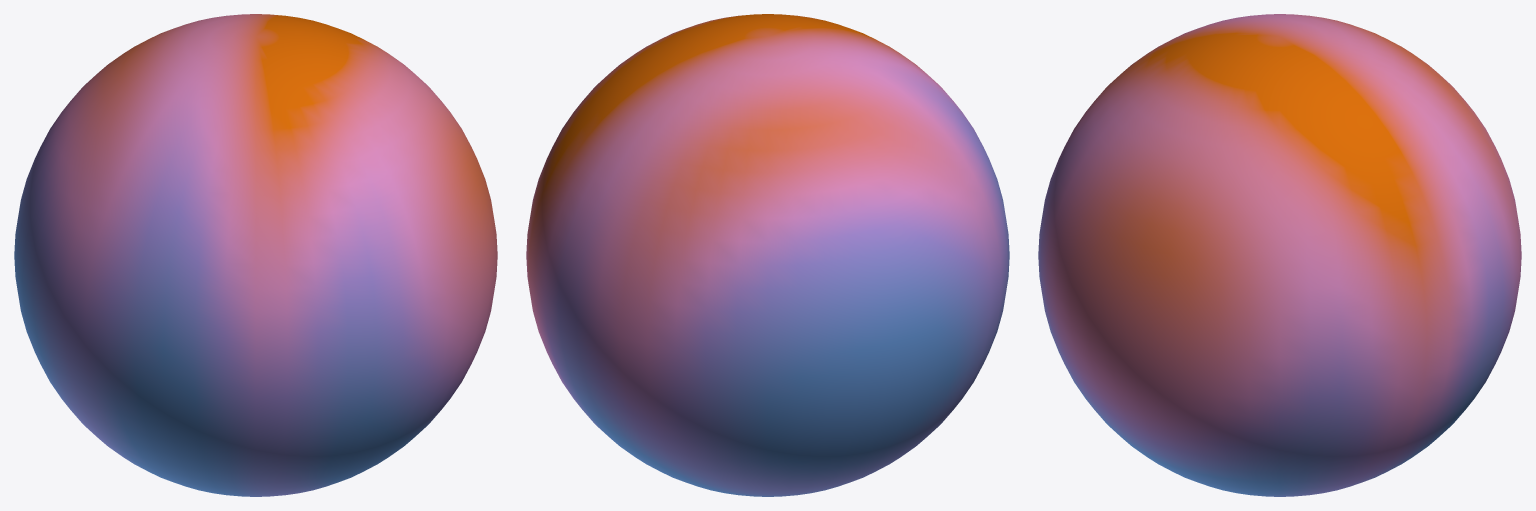
File: aneurysm.glb
The picture shows the model from 3 angles, left to right: view 1: azimuth 30°, elevation 25°; view 2: azimuth 150°, elevation 25°; view 3: azimuth 270°, elevation 25°; orthographic projection.
Parts seen in each view (by area): view 1: aneurysm_dome; view 2: aneurysm_dome; view 3: aneurysm_dome.
Part boxes in pixels (x1=…): aneurysm_dome: x1=14, y1=14, x2=497, y2=496; aneurysm_dome: x1=526, y1=14, x2=1009, y2=496; aneurysm_dome: x1=1038, y1=14, x2=1521, y2=496.
Bounding box in the file's own units: 8.82 × 8.82 × 8.82.
